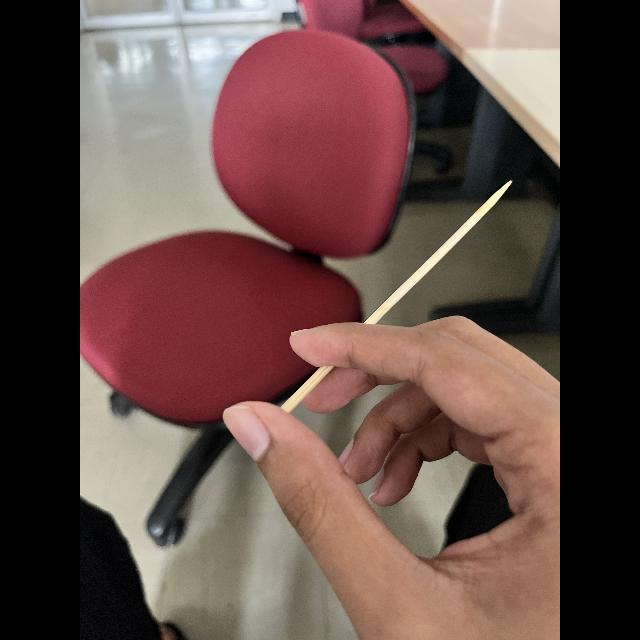stick: (274, 173, 516, 414)
